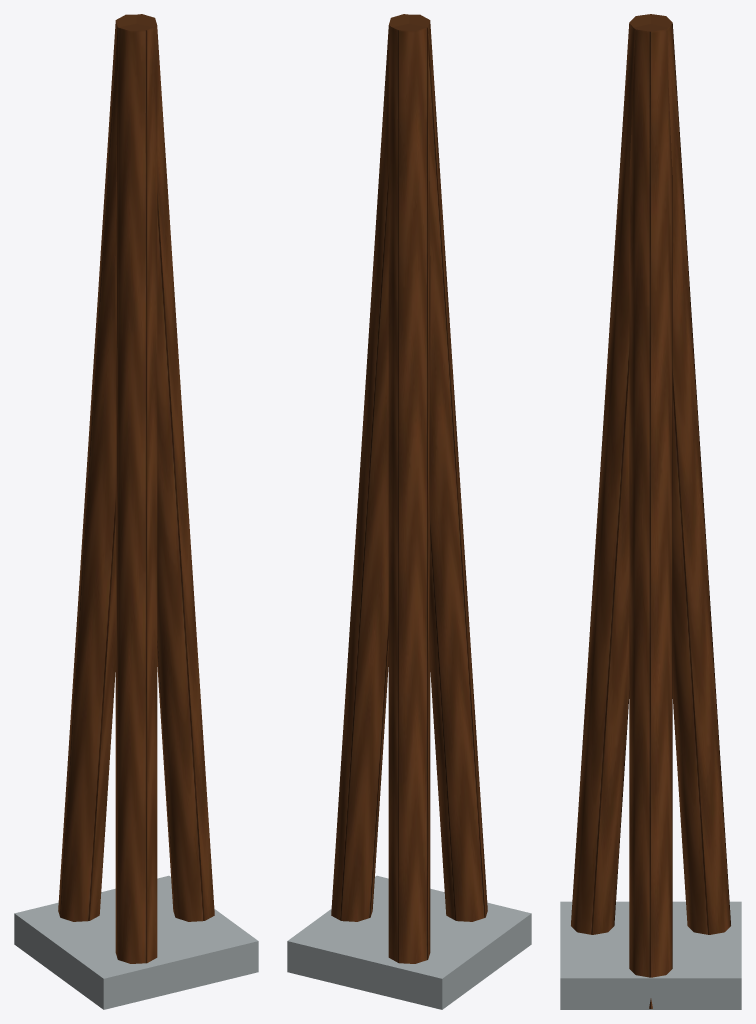
File: modular-survival-base-builder-tripod-support-594ca2eb__24224.glb
The picture shows the model from 3 angles, left to right: view 1: azimuth 30°, elevation 25°; view 2: azimuth 150°, elevation 25°; view 3: azimuth 270°, elevation 25°; orthographic projection.
Visible parts, largest first — view 1: tripod-support; view 2: tripod-support; view 3: tripod-support.
Part boxes in pixels (left/top/right/bottom): tripod-support: left=14, top=14, right=258, bottom=1009; tripod-support: left=287, top=14, right=531, bottom=1009; tripod-support: left=560, top=14, right=741, bottom=1009.
Size of the model in its own units: 0.4179 by 2.41 by 0.416.
2 materials, 1 textured.
